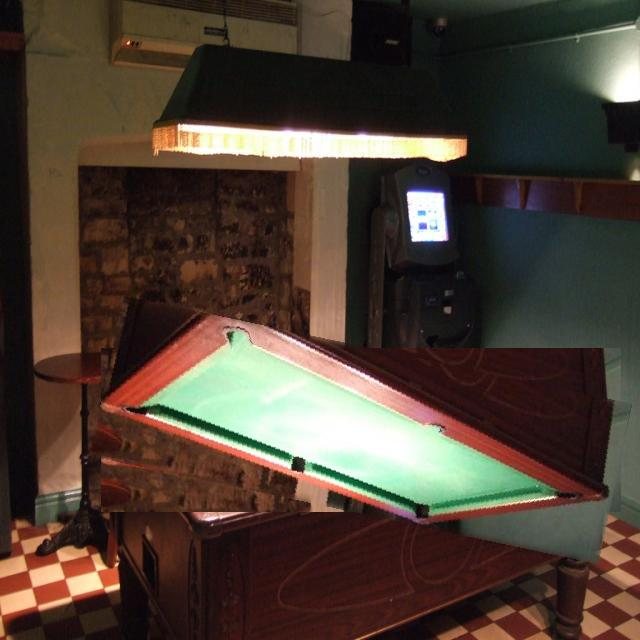Billiard table: (96, 322, 627, 538)
